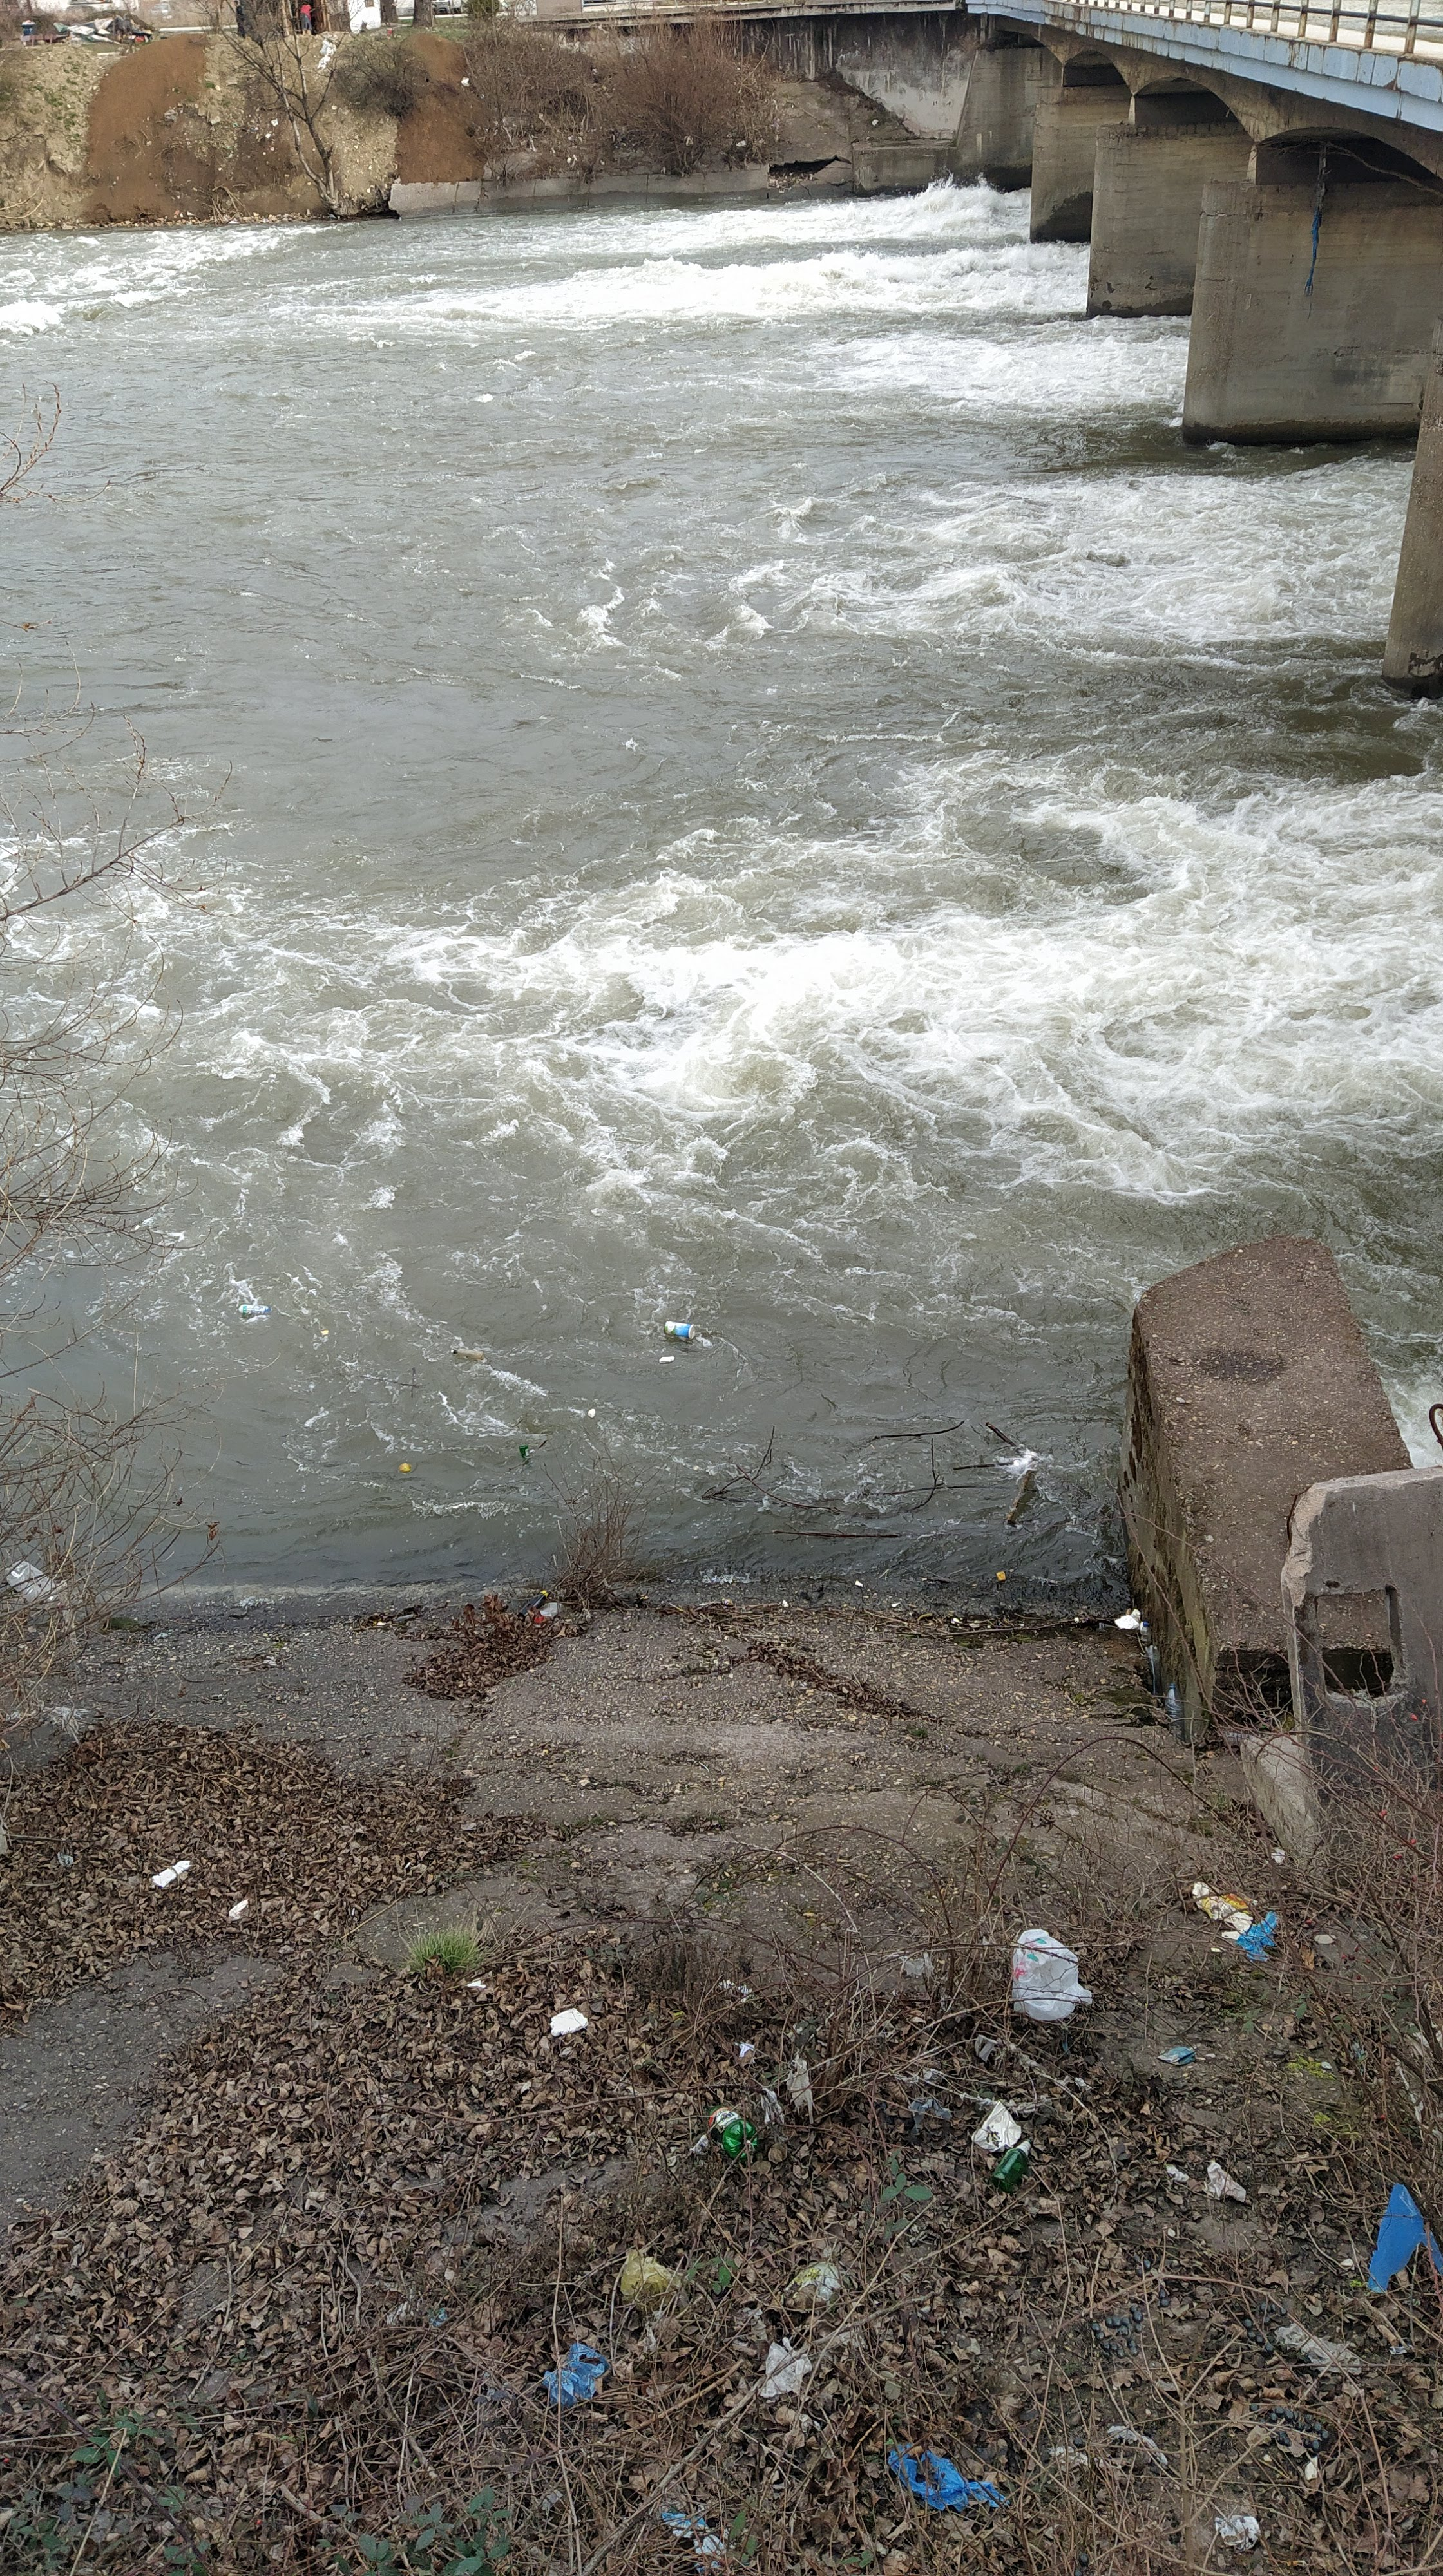Plastic Bottle: (451, 1348, 483, 1359), (239, 1304, 271, 1315), (521, 1444, 528, 1458)
